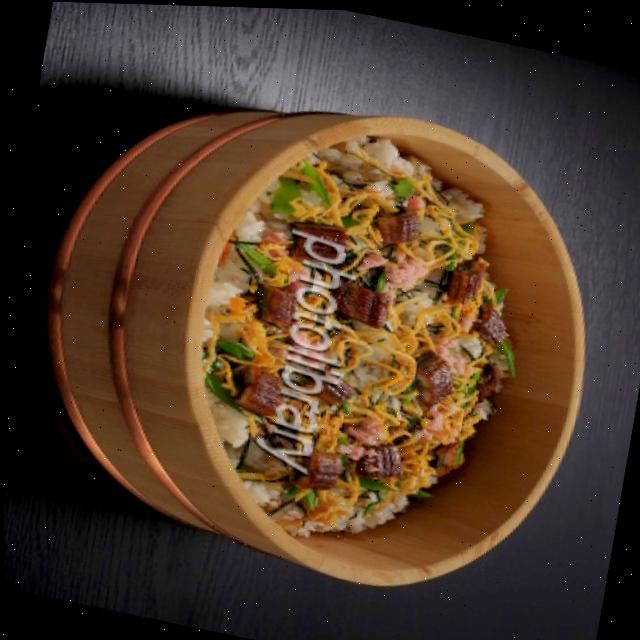寿司卷物: (0, 31, 640, 636)
